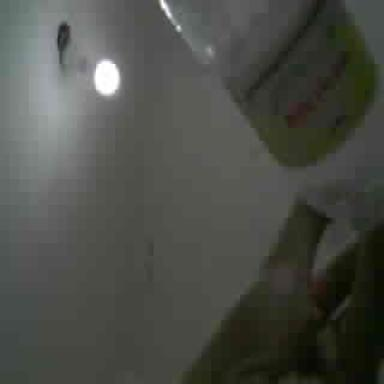bottle: (160, 0, 383, 238)
